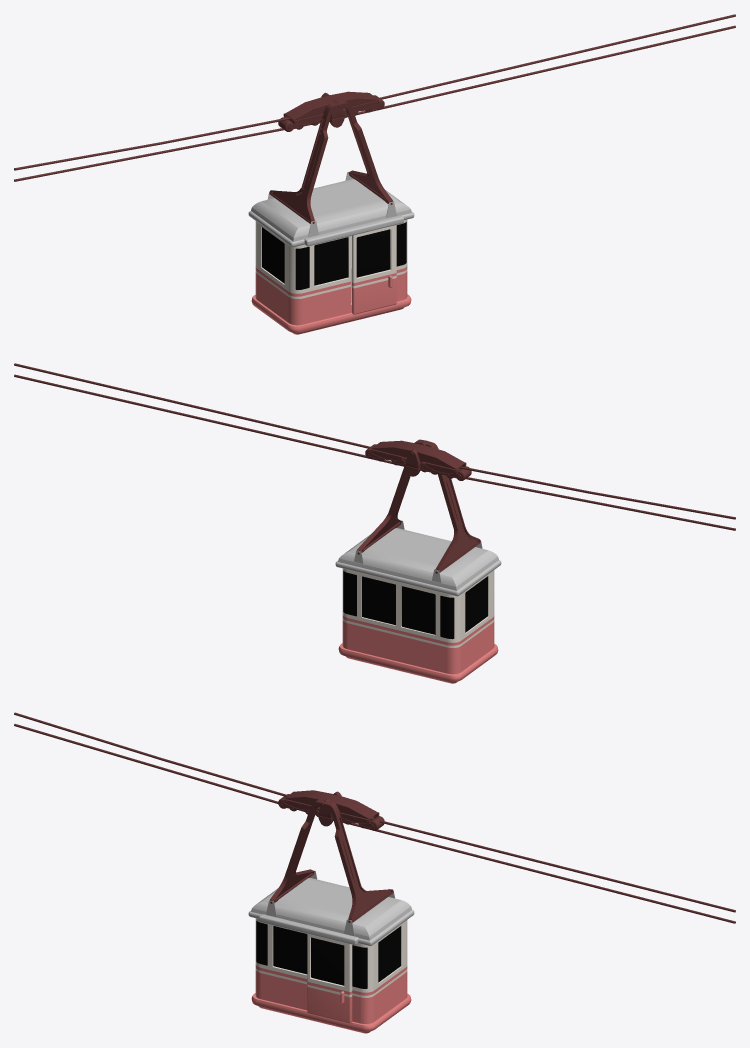
3 renders of one model, top to bottom at view 1: azimuth 30°, elevation 25°; view 2: azimuth 150°, elevation 25°; view 3: azimuth 330°, elevation 25°, orthographic.
Visible parts, largest first — view 1: base_3, Cube_4_3, barre_2, Cube, object 1, object 4, Cube_3_3, Cube_4, Cube_2_2, Cube_3, base_2, Cube_6_2 (+1 smaller); view 2: base_3, Cube_4_3, barre_2, object 1, object 4, Cube_5_2, Cube_4_5, Cube_2_2, base_2, Cube_3, Cube_4_4, Cube_6_2; view 3: base_3, Cube_4_3, barre_2, Cube, object 1, object 4, Cube_3_3, Cube_4, Cube_2_2, base_2, Cube_3, Cube_7_2 (+1 smaller).
Boxes of the visible parts, x1,y1,x2,y2 form: base_3: (255, 219, 407, 325); Cube_4_3: (251, 179, 411, 241); barre_2: (269, 100, 393, 223); Cube: (352, 225, 396, 314); object 1: (14, 25, 735, 181); object 4: (15, 14, 735, 170); Cube_3_3: (314, 237, 348, 285); Cube_4: (356, 229, 389, 277); Cube_2_2: (251, 294, 411, 332); Cube_3: (285, 91, 378, 120); base_2: (295, 222, 406, 289); Cube_6_2: (262, 227, 284, 283); base_3: (342, 568, 494, 674); Cube_4_3: (338, 528, 498, 590); barre_2: (357, 439, 480, 572); object 1: (14, 374, 735, 530); object 4: (14, 363, 735, 519); Cube_5_2: (401, 586, 435, 634); Cube_4_5: (362, 576, 395, 625); Cube_2_2: (338, 643, 498, 681); base_2: (343, 571, 454, 639); Cube_3: (371, 440, 464, 469); Cube_4_4: (335, 560, 501, 596); Cube_6_2: (465, 576, 487, 632); base_3: (255, 918, 407, 1023); Cube_4_3: (251, 877, 411, 940); barre_2: (270, 799, 393, 922); Cube: (307, 933, 352, 1023); object 1: (14, 724, 735, 923); object 4: (14, 712, 735, 912); Cube_3_3: (273, 926, 307, 974); Cube_4: (311, 937, 344, 985); Cube_2_2: (251, 993, 411, 1031); base_2: (256, 921, 367, 988); Cube_3: (284, 790, 378, 819); Cube_7_2: (378, 926, 400, 982).
Bounding box in the file's own units: 1993 × 577 × 226.
